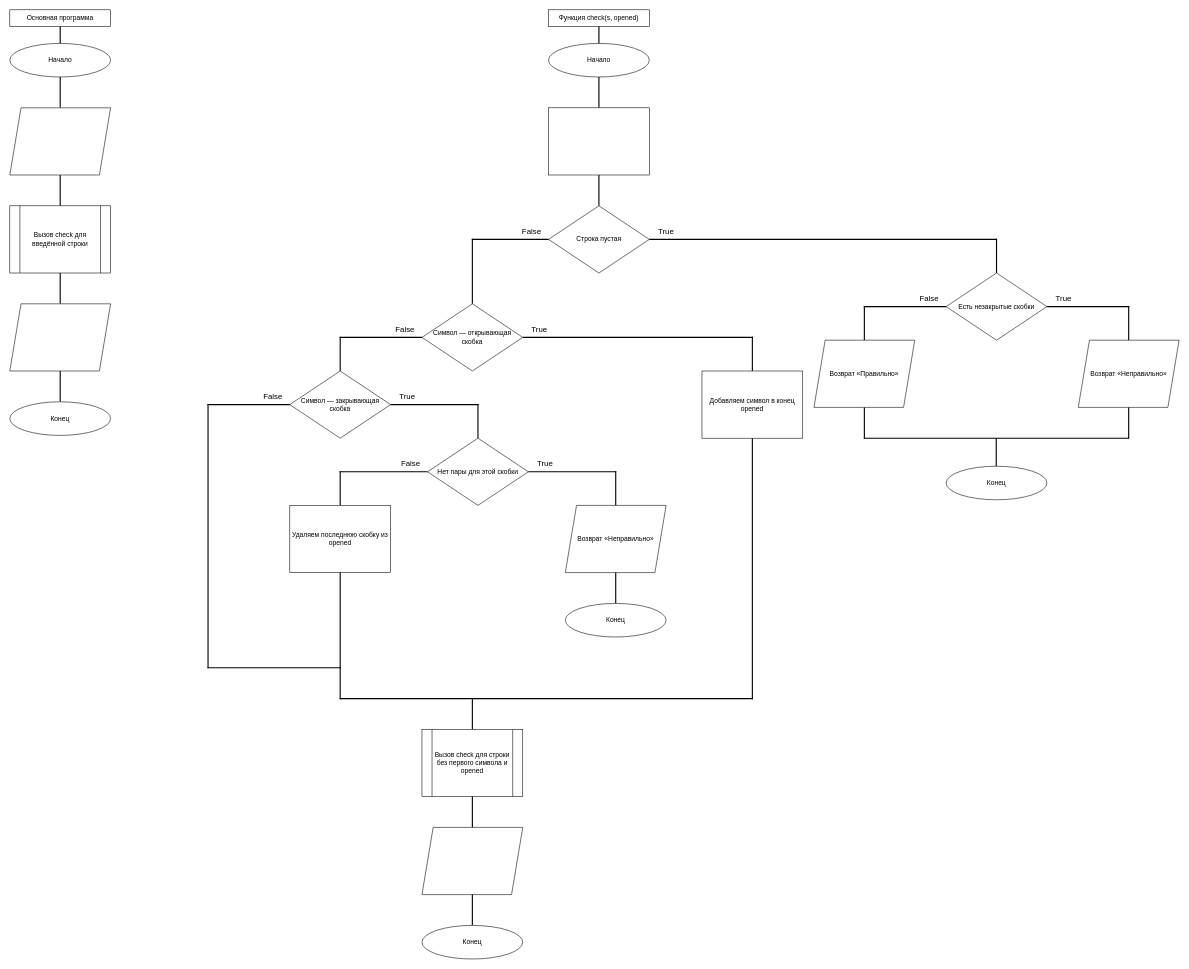
The diagram is 1189 pixels wide and 969 high, and some of its shapes have lost their labels. The shapes that lost their labels are listed below. From the top down, each one's centre as x and y in pixels, then its label:
At (60,141): "Ввод строки".
At (598,141): "Задаём пары скобок: закрывающая → открывающая".
At (60,337): "Вывод результата проверки".
At (472,861): "Возврат результата вызова".
